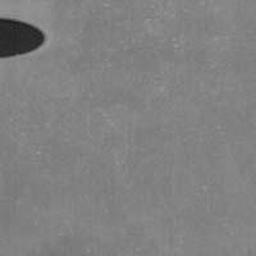Punching: (0, 19, 45, 59)
